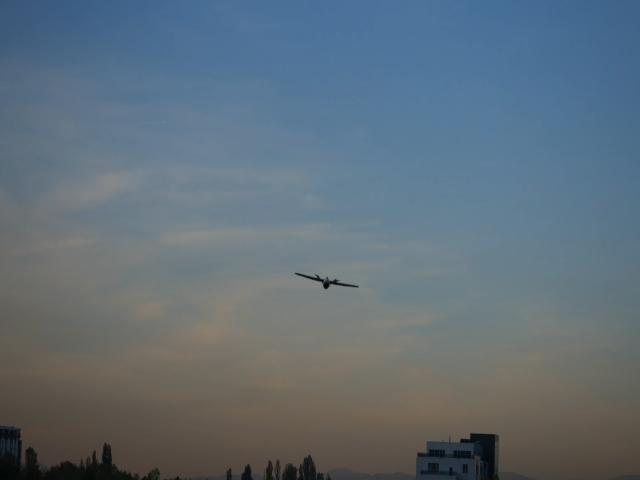plane: (296, 273, 360, 290)
